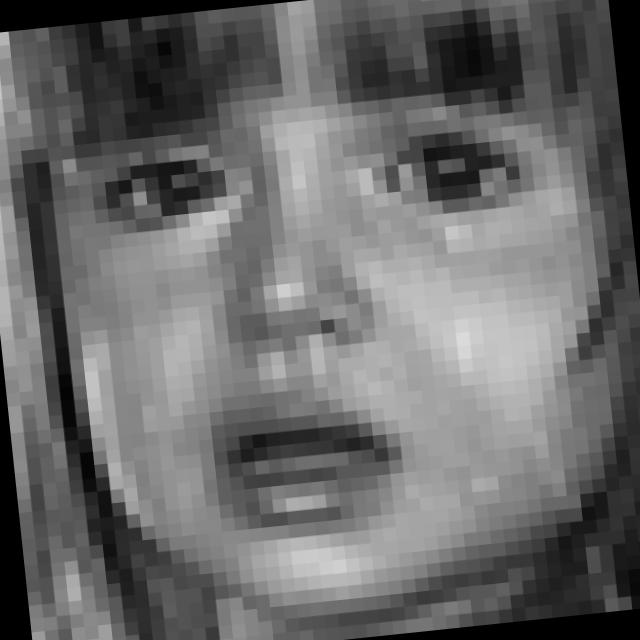sad: (55, 49, 572, 560)
